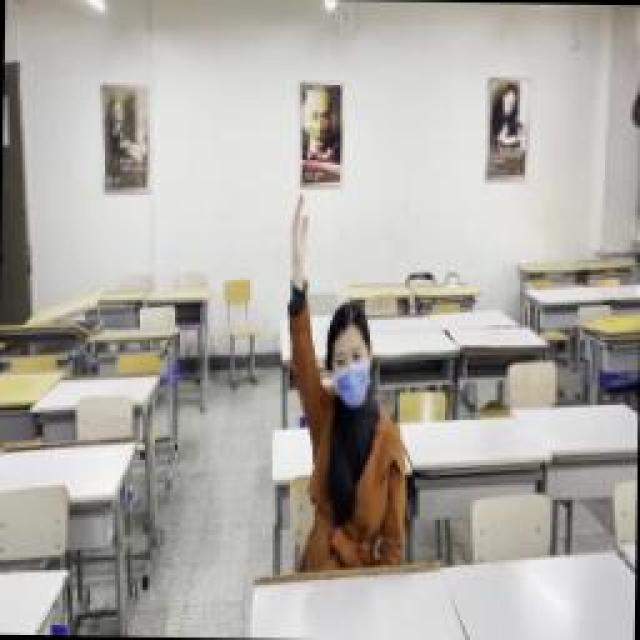study: (285, 195, 410, 560)
